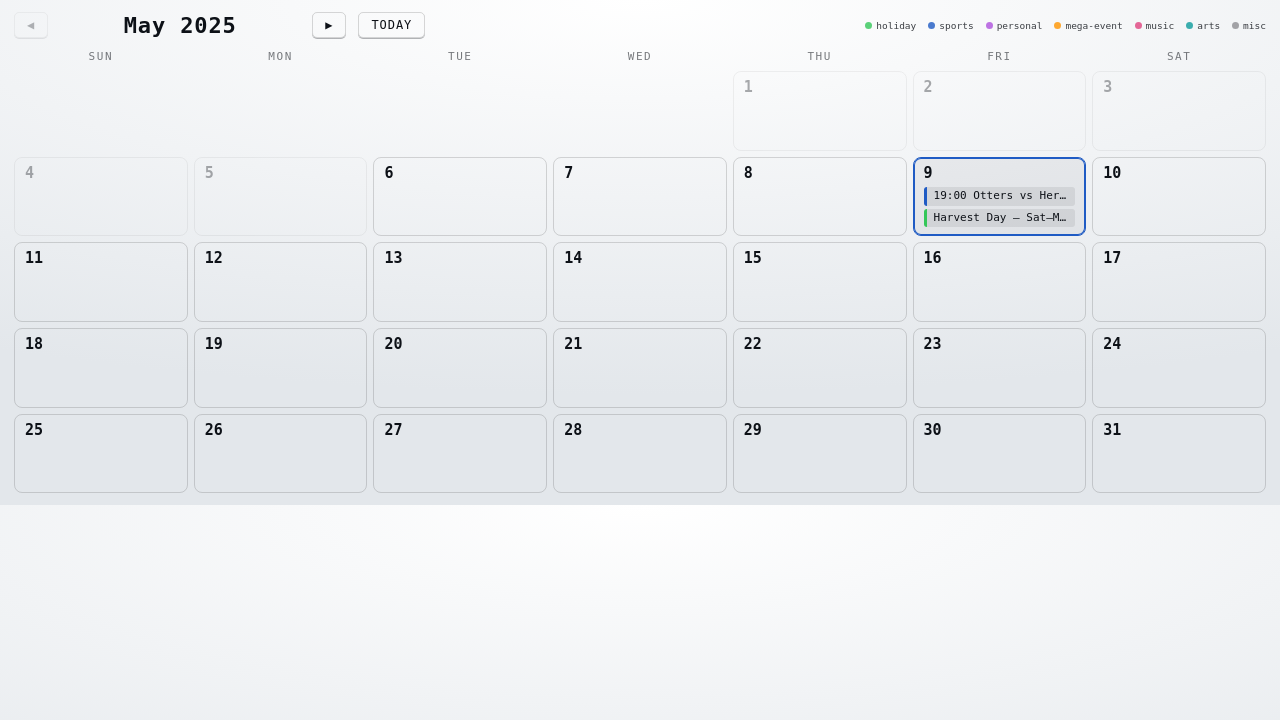
Calendar — the big board (variant=big) › cell click opens the shared full-day popup
Step 1. Click the element with class "calbig-cell" that starts with "Otters vs Herons" → (999,197), box [913,157,1086,236]
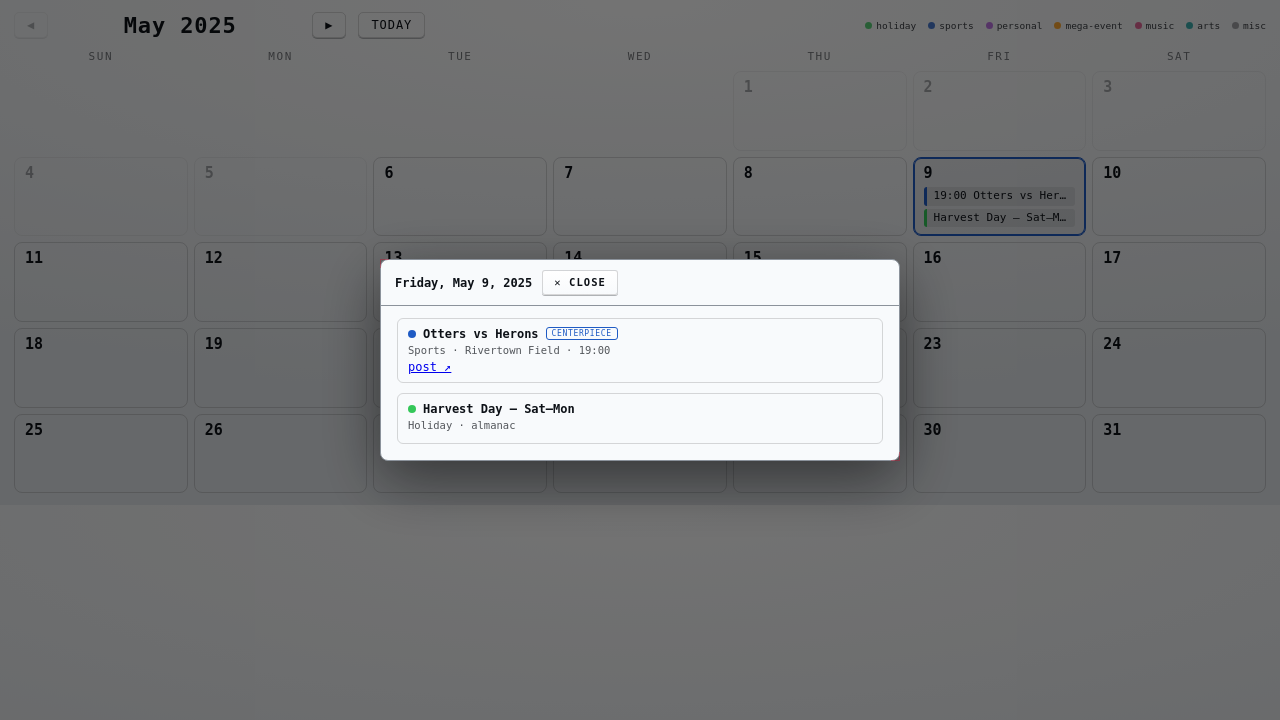
Result: the text "CENTERPIECE" is shown at [546,327,618,340]
